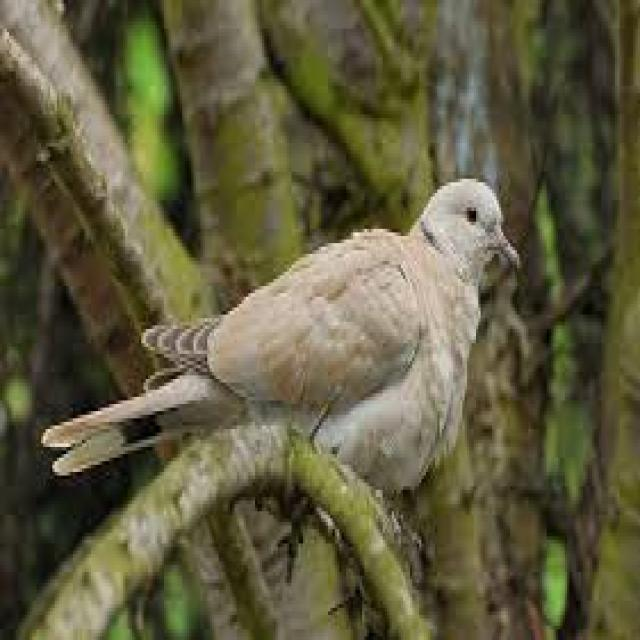pigeon: (45, 170, 532, 532)
